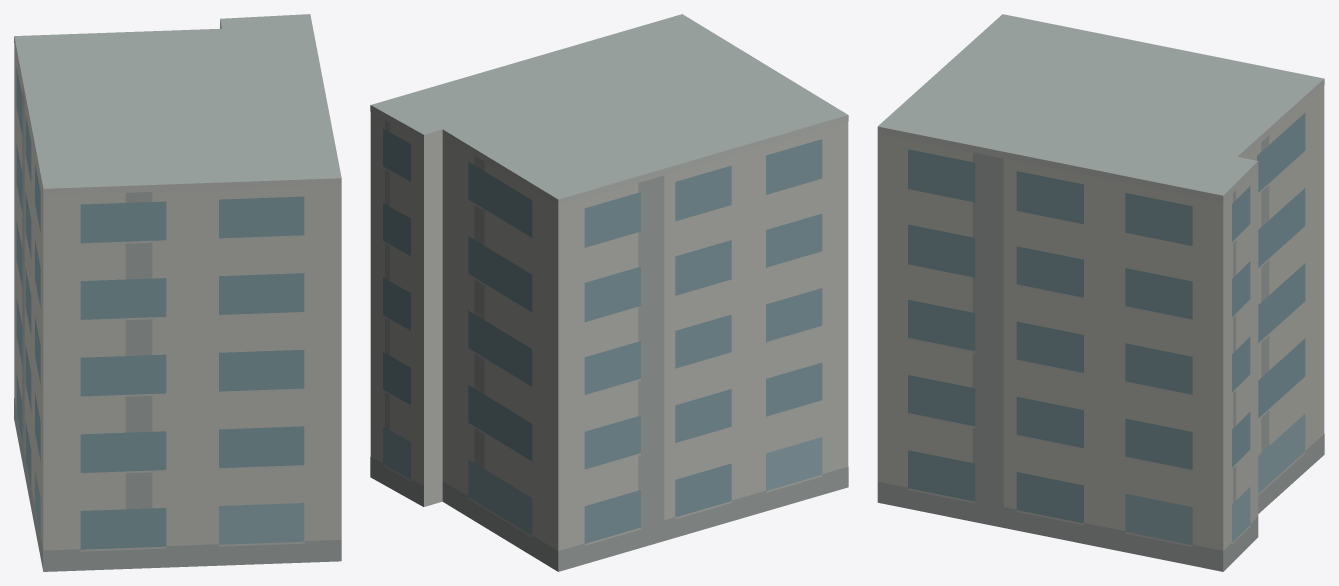
Rendered from survey-upis-32636868.glb.
The picture shows the model from 3 angles, left to right: view 1: azimuth 30°, elevation 25°; view 2: azimuth 150°, elevation 25°; view 3: azimuth 270°, elevation 25°; orthographic projection. The views are drawn at different scales.
Parts seen in each view (by area): view 1: survey-upis-32636868.tmp; view 2: survey-upis-32636868.tmp; view 3: survey-upis-32636868.tmp.
Boxes of the visible parts, left/top/right/bottom form: survey-upis-32636868.tmp: left=14, top=14, right=341, bottom=571; survey-upis-32636868.tmp: left=370, top=14, right=848, bottom=571; survey-upis-32636868.tmp: left=877, top=14, right=1324, bottom=571.
Size of the model in its own units: 13.89 by 13.4 by 14.44.
